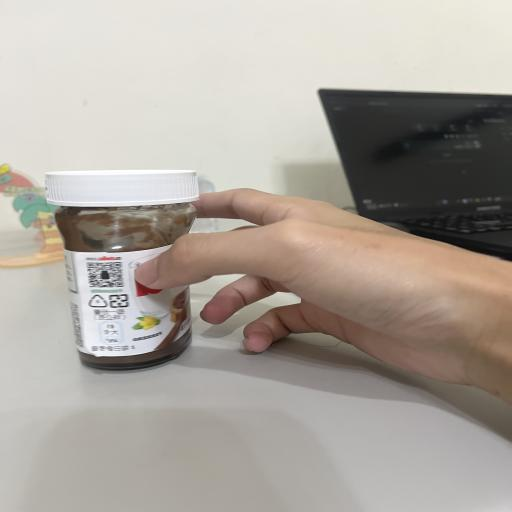chocolate_jar: (46, 170, 199, 370)
